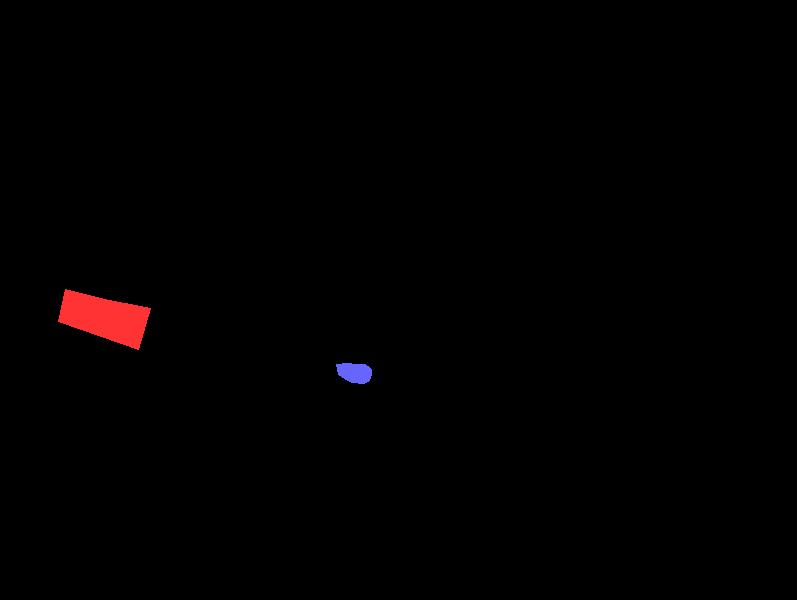Missing part: (58, 289, 150, 349)
Scratch: (336, 363, 371, 383)
